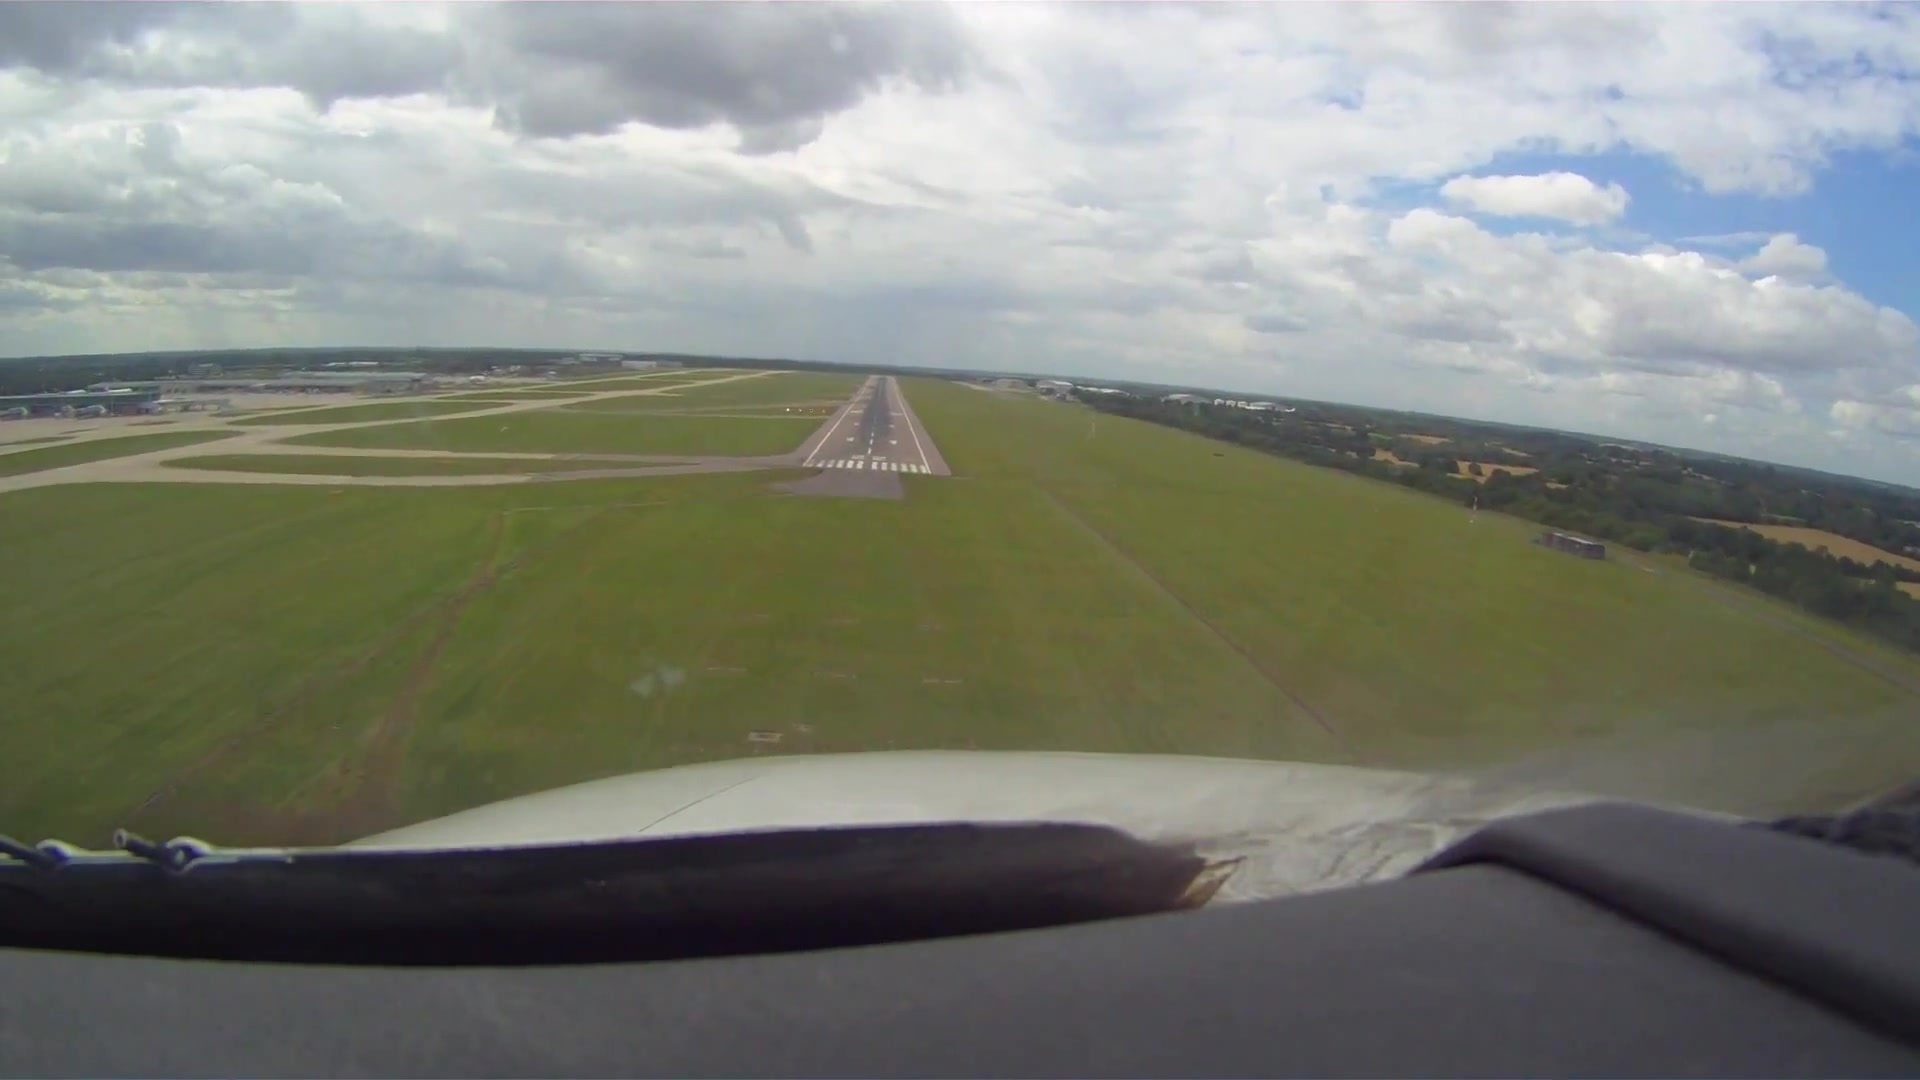entrance: (800, 456, 928, 473)
runway: (789, 375, 949, 476)
